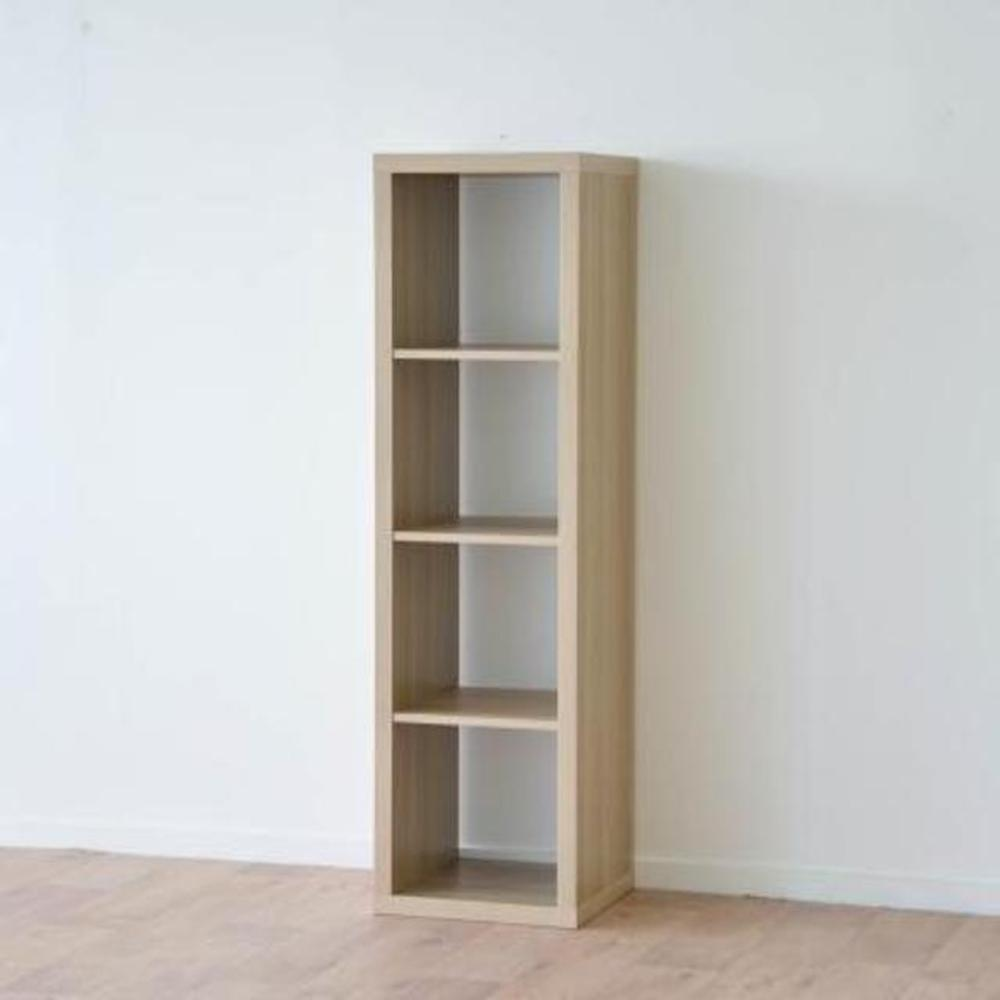lamp: (368, 151, 644, 936)
